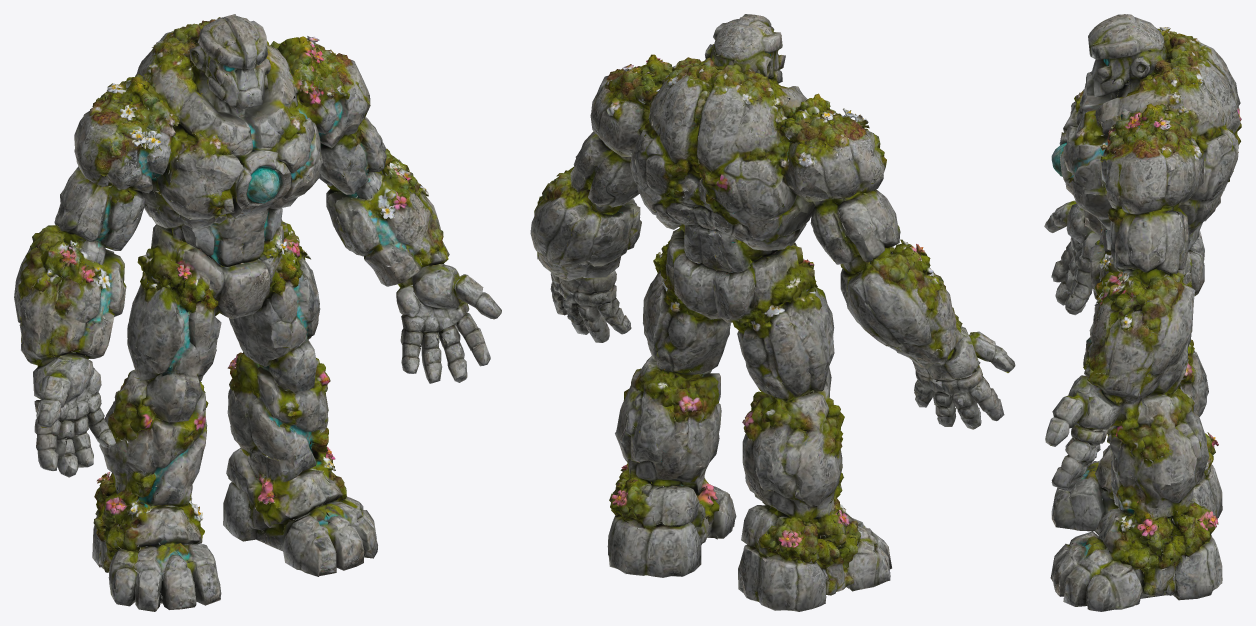
Rendered from golem.glb.
3 renders of one model, left to right at view 1: azimuth 30°, elevation 25°; view 2: azimuth 150°, elevation 25°; view 3: azimuth 270°, elevation 25°, orthographic. The views are drawn at different scales.
Visible parts, largest first — view 1: stone-golem; view 2: stone-golem; view 3: stone-golem.
Part boxes in pixels (x1,y1,x2,y2): stone-golem: (14, 14, 501, 611); stone-golem: (530, 14, 1015, 611); stone-golem: (1044, 14, 1241, 611).
Size of the model in its own units: 2.49 by 2.8 by 0.9383.
1 material, 1 textured.
